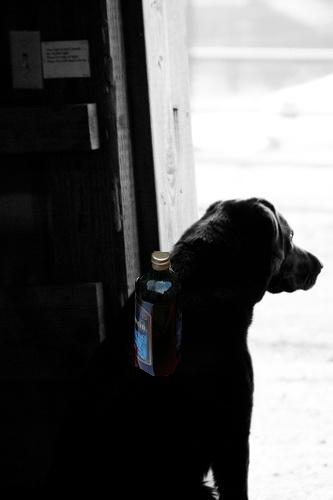tampered: (135, 252, 182, 376)
